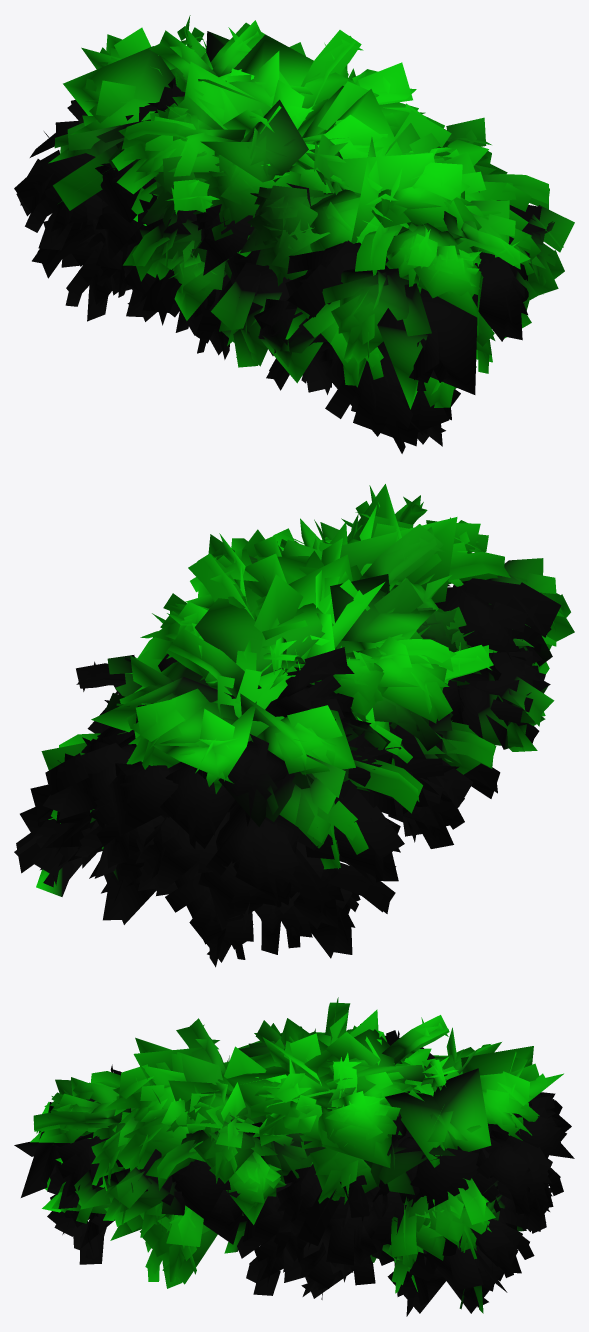
3 views of the same model, one above another, from view 1: azimuth 30°, elevation 25°; view 2: azimuth 150°, elevation 25°; view 3: azimuth 270°, elevation 25° (orthographic). The views are drawn at different scales.
Visible parts, largest first — view 1: SM_TR_PaperFlower_Vine_3m_HD; view 2: SM_TR_PaperFlower_Vine_3m_HD; view 3: SM_TR_PaperFlower_Vine_3m_HD.
Boxes of the visible parts, <box> form: SM_TR_PaperFlower_Vine_3m_HD: <box>14,15,574,453</box>; SM_TR_PaperFlower_Vine_3m_HD: <box>14,484,574,967</box>; SM_TR_PaperFlower_Vine_3m_HD: <box>14,997,574,1316</box>.
Bounding box in the file's own units: 249 × 159 × 122.
